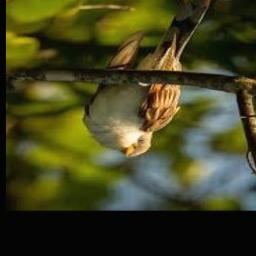Cuckoo: (84, 0, 211, 157)
